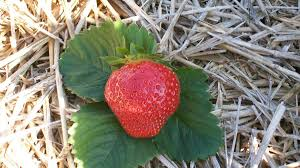strawberry: (103, 55, 182, 142)
